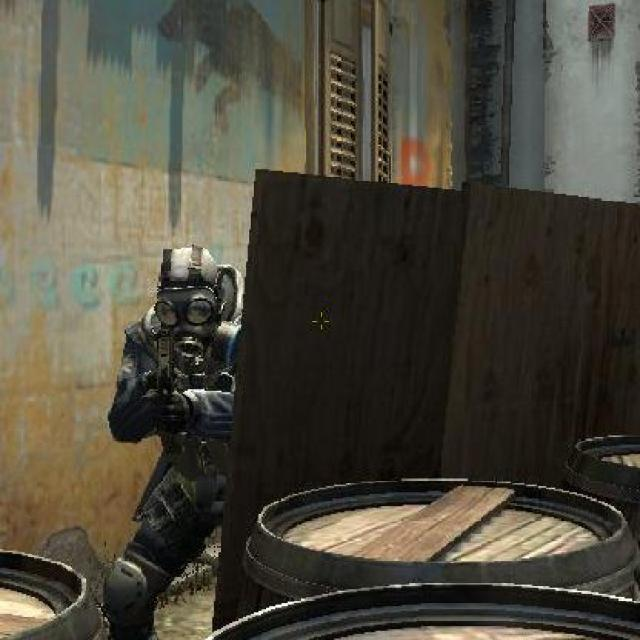CT-Body: (141, 250, 234, 358)
CT-Head: (104, 244, 240, 638)
